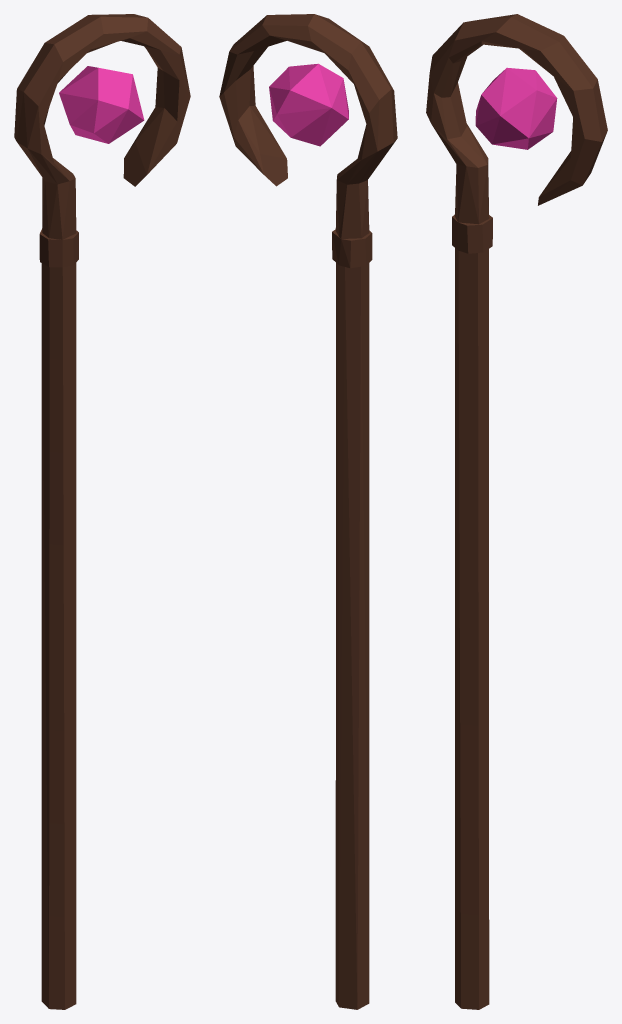
File: Staff4.fbx
The picture shows the model from 3 angles, left to right: view 1: azimuth 30°, elevation 25°; view 2: azimuth 150°, elevation 25°; view 3: azimuth 330°, elevation 25°; orthographic projection.
Parts seen in each view (by area): view 1: Staff2.004; view 2: Staff2.004; view 3: Staff2.004.
Part boxes in pixels (x1,y1,x2,y2): Staff2.004: [14, 14, 190, 1009]; Staff2.004: [219, 14, 397, 1009]; Staff2.004: [426, 14, 607, 1009].
Bounding box in the file's own units: 26.02 × 142 × 10.95.
